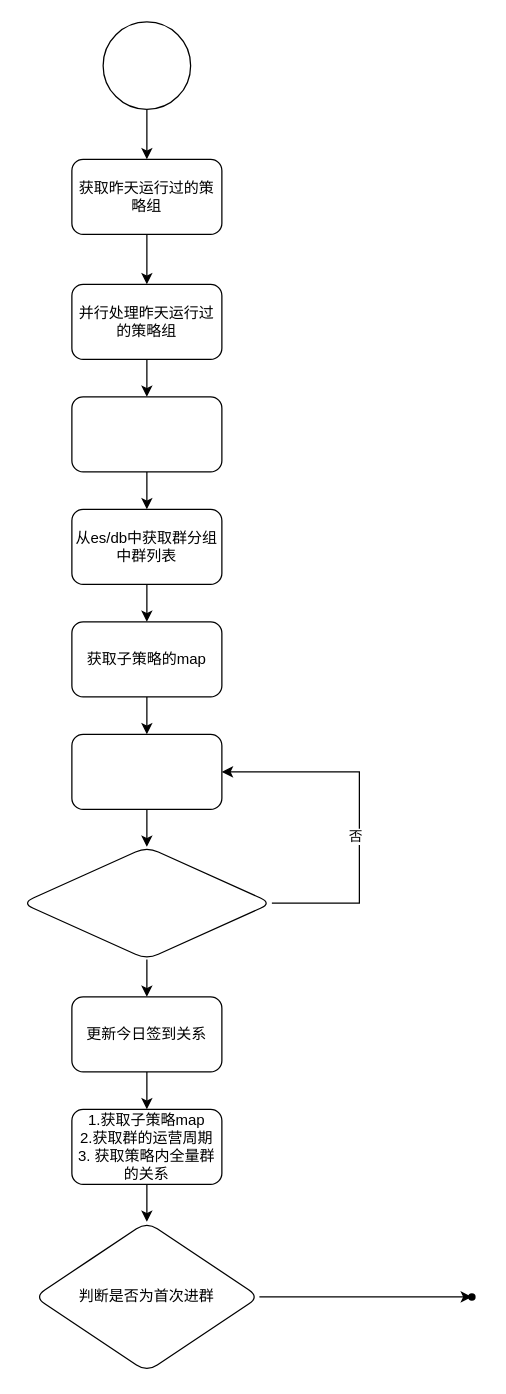
The diagram is 506 pixels wide and 1394 high, and some of its shapes have lost their labels. The box of each missing label's shape, as (x1, y1, x2, y2) in pixels:
1. 昨天已签到 2.群状态未解散 3.群内有效人数不为0 4.群回收状态正常: (21, 846, 272, 959)
开始: (102, 21, 191, 109)
循环处理群: (71, 733, 222, 809)
获取策略详情: (71, 396, 222, 472)
